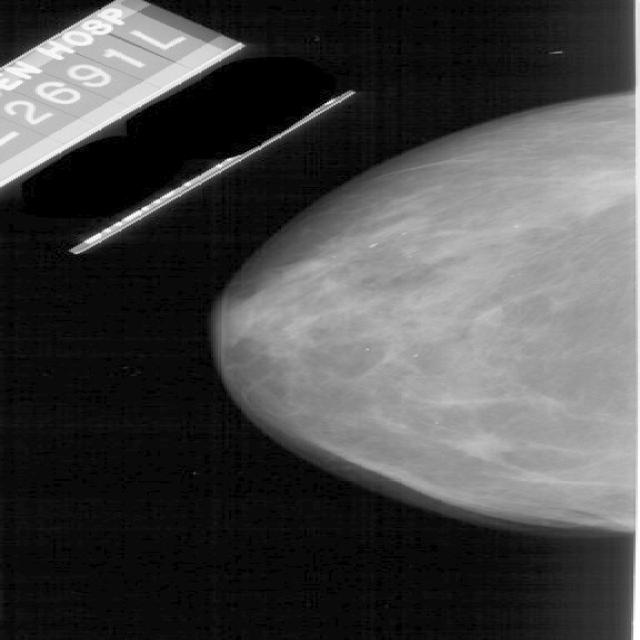tumour: (445, 430, 511, 460)
